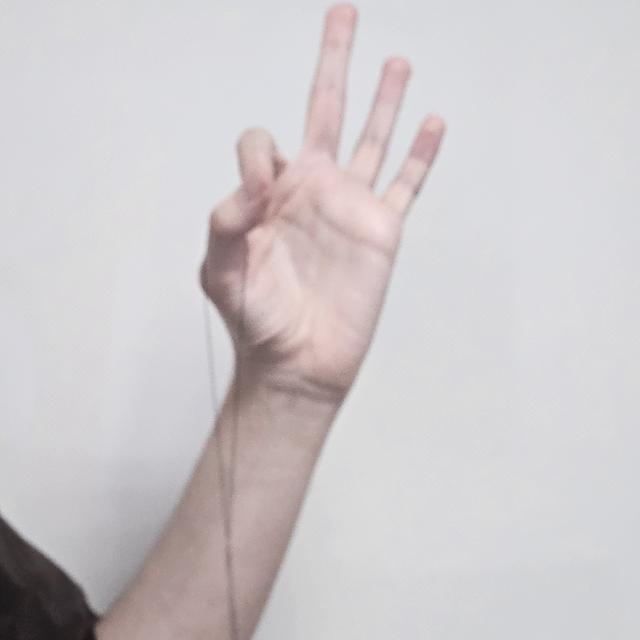Bolinha: (202, 8, 444, 402)
